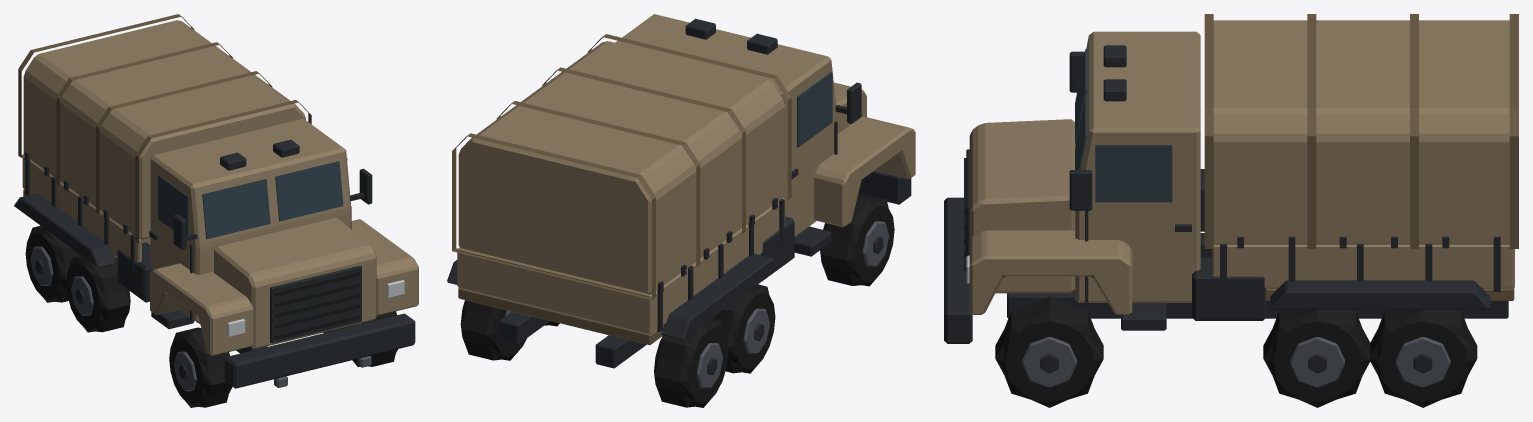
The model's file is camion-tropas.glb.
The picture shows the model from 3 angles, left to right: view 1: azimuth 30°, elevation 25°; view 2: azimuth 150°, elevation 25°; view 3: azimuth 270°, elevation 25°; orthographic projection. The views are drawn at different scales.
Visible parts, largest first — view 1: casco, wheel_L2, wheel_L1, wheel_L3, wheel_R1; view 2: casco, wheel_L3, wheel_L1, wheel_L2, wheel_R3; view 3: casco, wheel_R1, wheel_R2, wheel_R3.
Part boxes in pixels (<box>): casco: <box>14,14,418,388</box>; wheel_L2: <box>66,255,130,332</box>; wheel_L1: <box>169,327,232,407</box>; wheel_L3: <box>25,225,80,302</box>; wheel_R1: <box>351,311,397,366</box>; casco: <box>447,14,915,368</box>; wheel_L3: <box>654,318,728,407</box>; wheel_L1: <box>820,193,894,286</box>; wheel_L2: <box>711,284,775,373</box>; wheel_R3: <box>460,300,526,360</box>; casco: <box>944,14,1518,343</box>; wheel_R1: <box>995,296,1103,407</box>; wheel_R2: <box>1263,309,1370,407</box>; wheel_R3: <box>1370,309,1477,407</box>.
Bounding box in the file's own units: 0.55 × 0.556 × 1.01.
